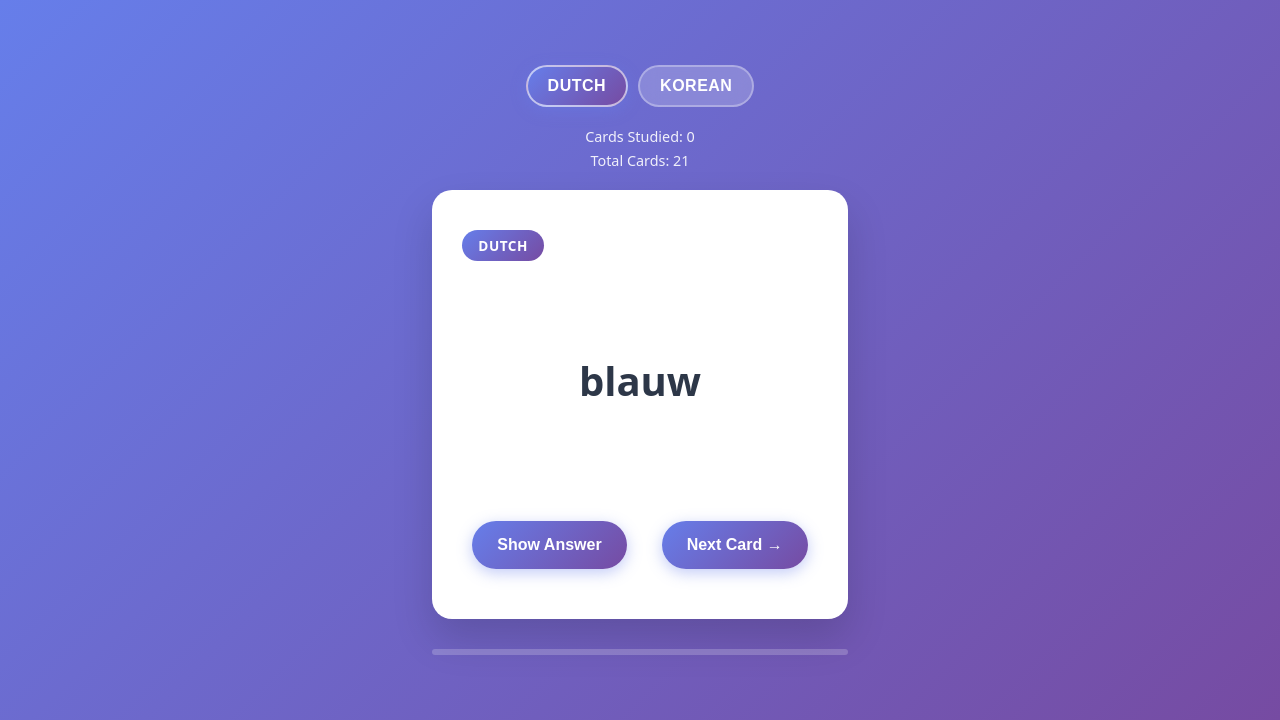
Scenario: Flashcard App › Next Card Functionality › increments cards studied counter
This screenshot has width=1280, height=720.
Expected: the text "Cards Studied: 0" is shown, top-left (585, 127), bottom-right (695, 146)
Click the button "Next Card →": (735, 545) top-left (662, 521), bottom-right (808, 569)
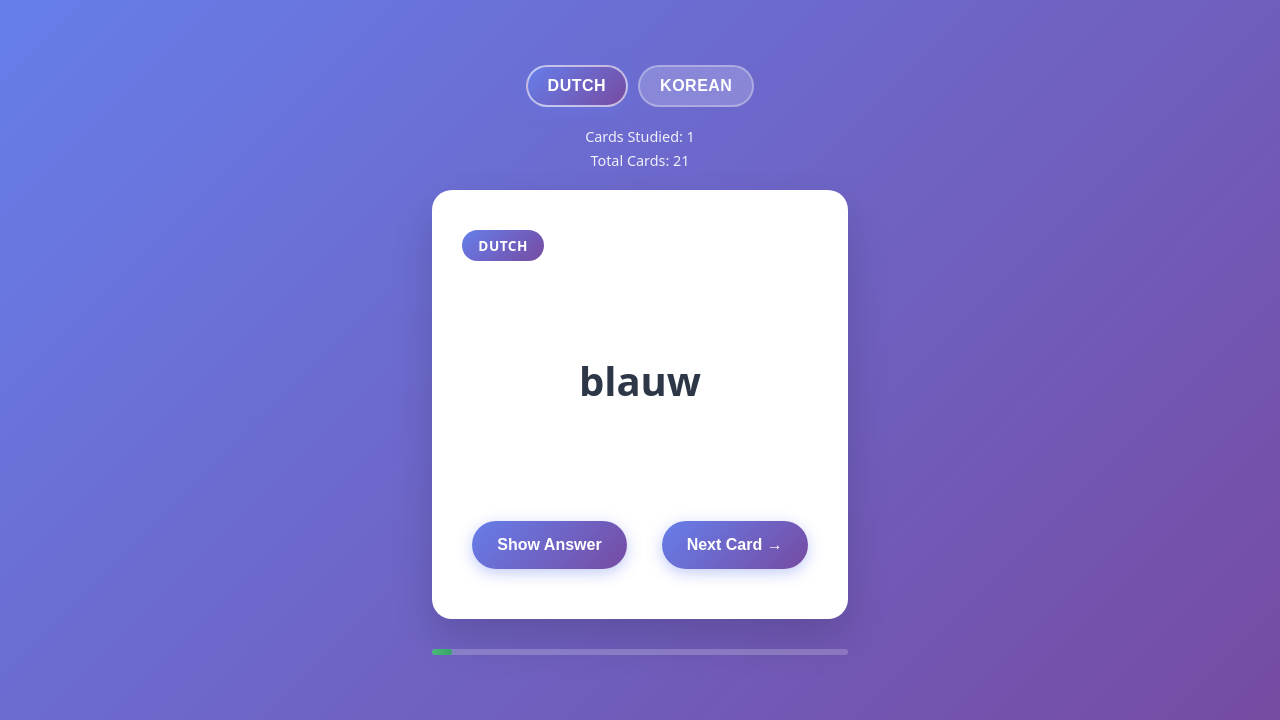
Expected: the text "Cards Studied: 1" is shown, top-left (585, 127), bottom-right (695, 146)
